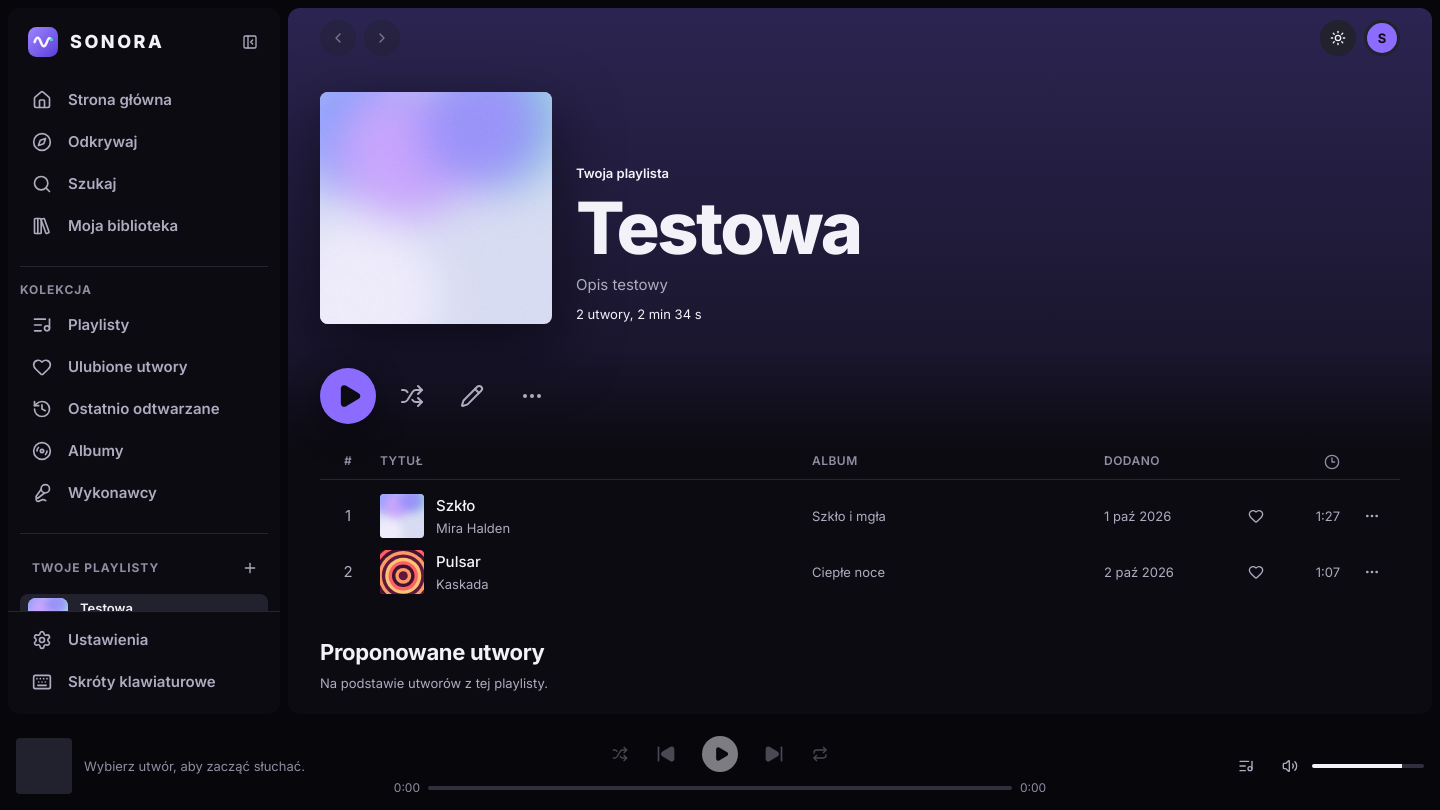
it: playlisty › usuwa playlistę dopiero po potwierdzeniu
The image size is (1440, 810).
Click the button named "Więcej opcji: Testowa".
click(532, 396)  # box [508, 372, 556, 420]
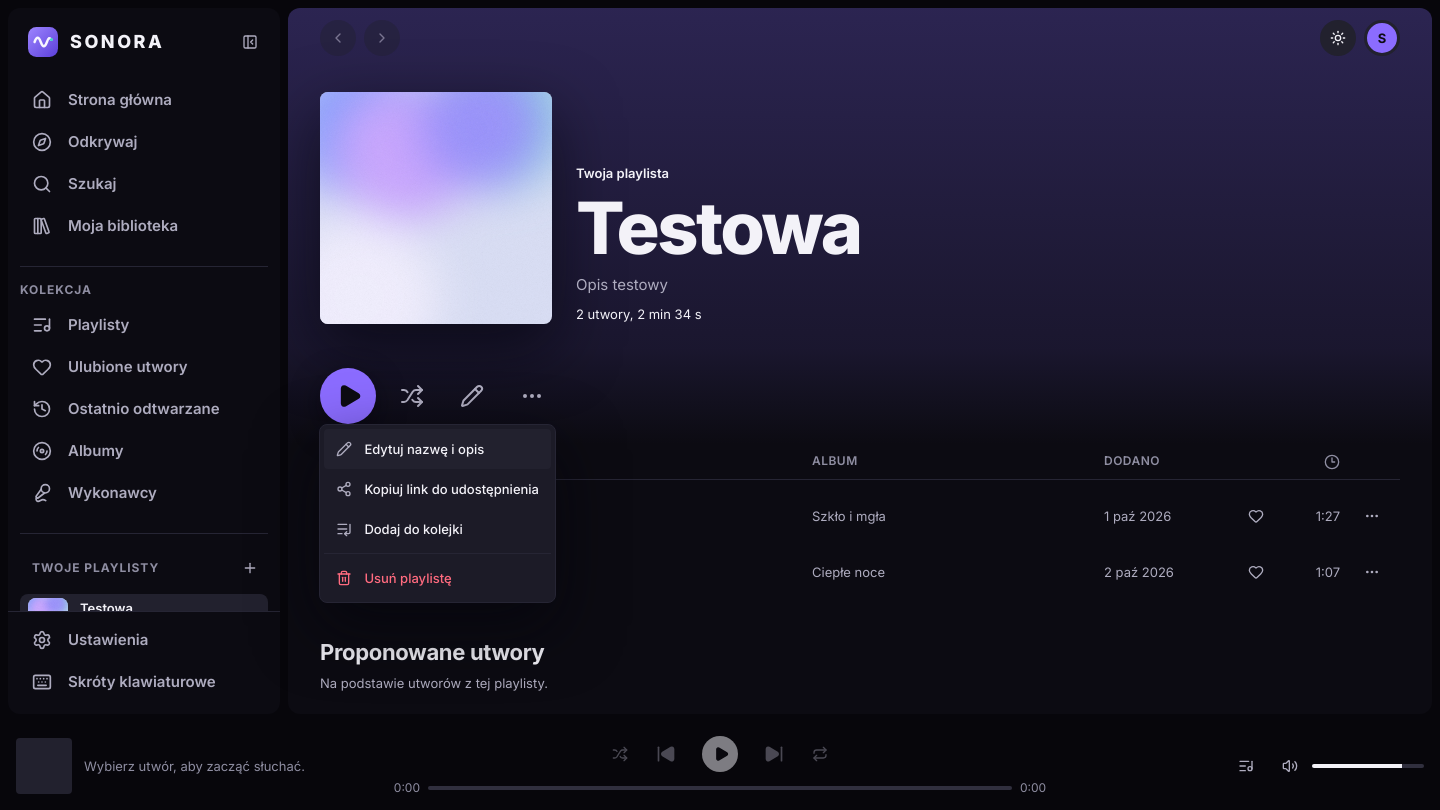
Click the menu item "Usuń playlistę".
click(438, 578)  # box [324, 558, 551, 598]
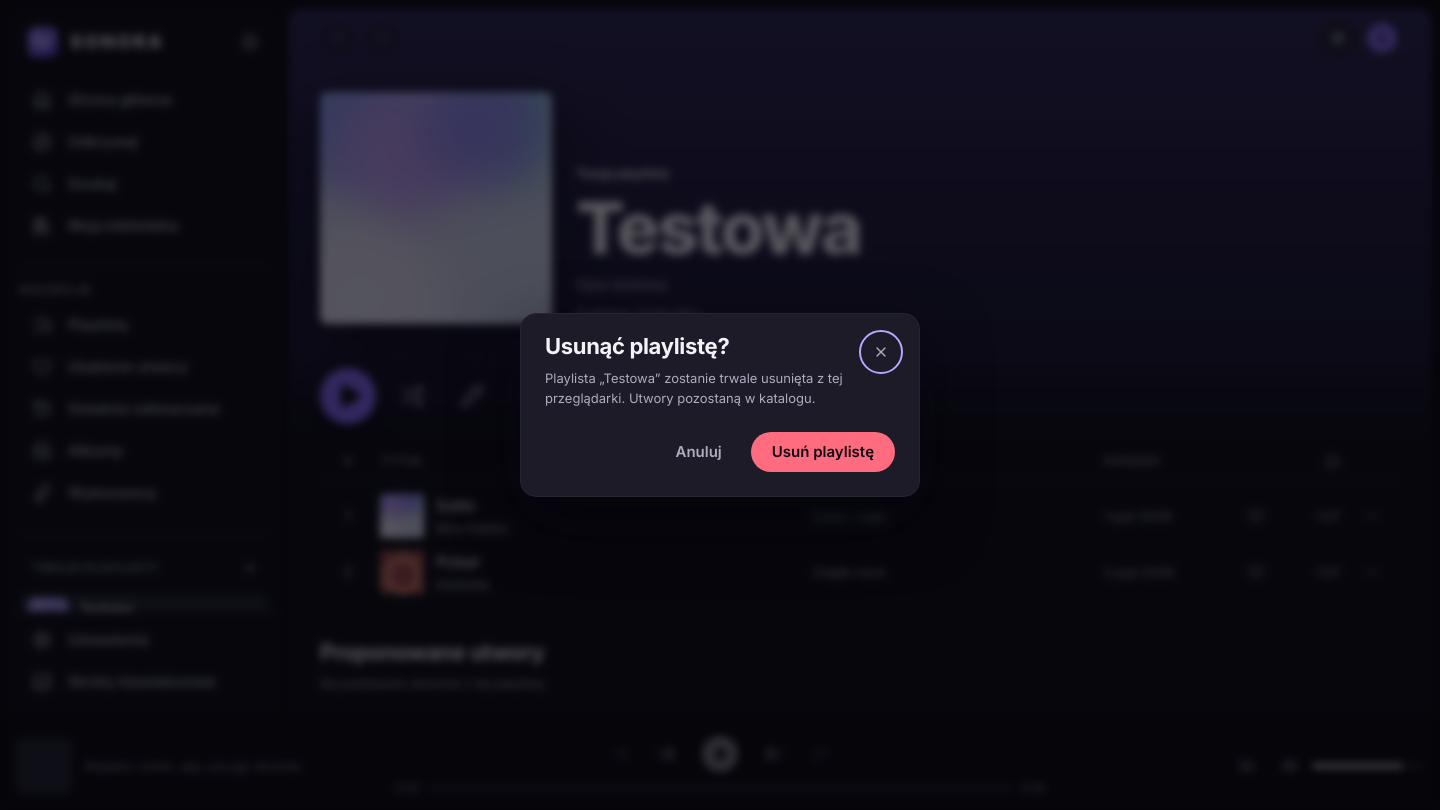
Click the button "Anuluj".
click(699, 452)  # box [654, 432, 743, 472]
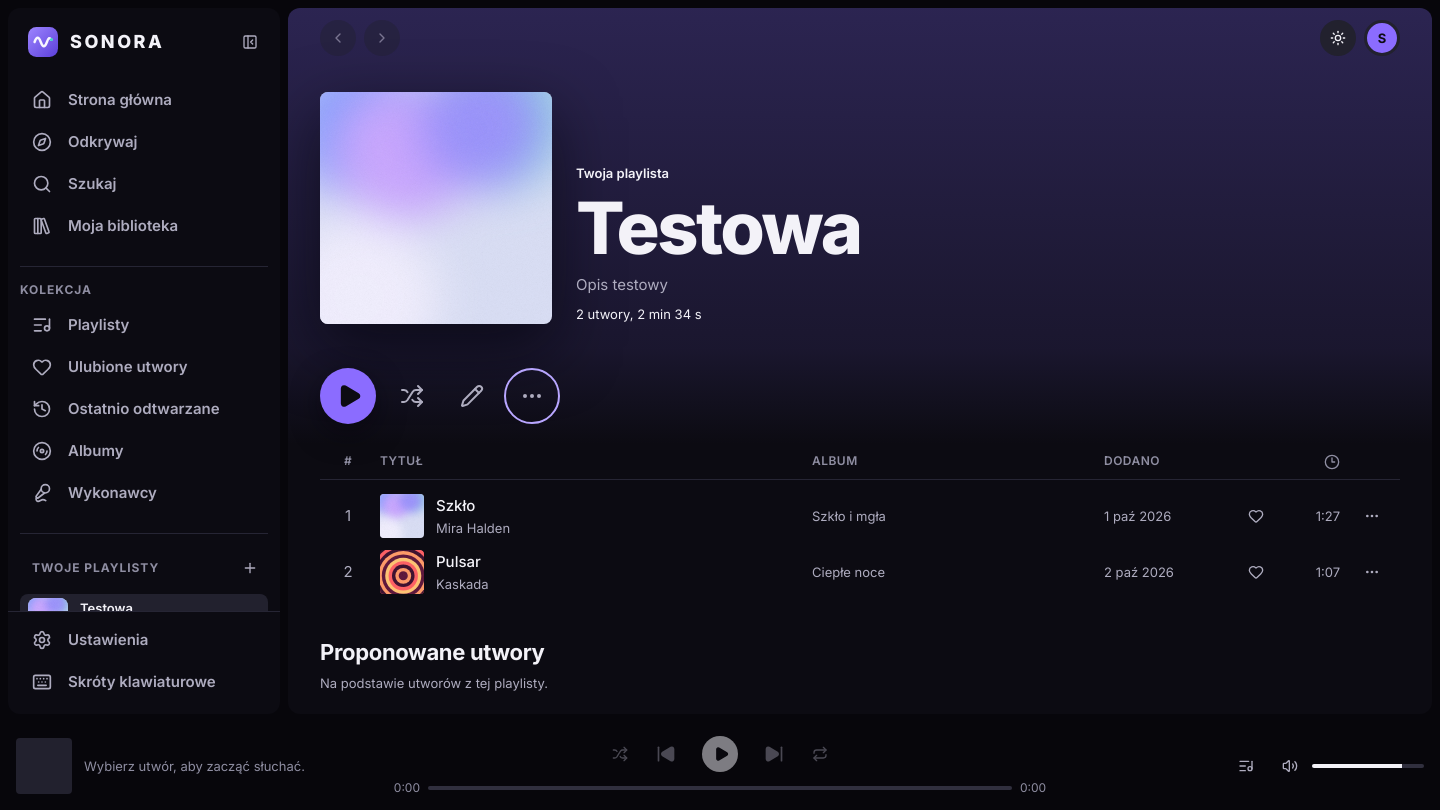
Expected: the heading "Testowa" is shown, [576, 191, 861, 265]
Click the button named "Więcej opcji: Testowa".
click(532, 396)  # box [508, 372, 556, 420]
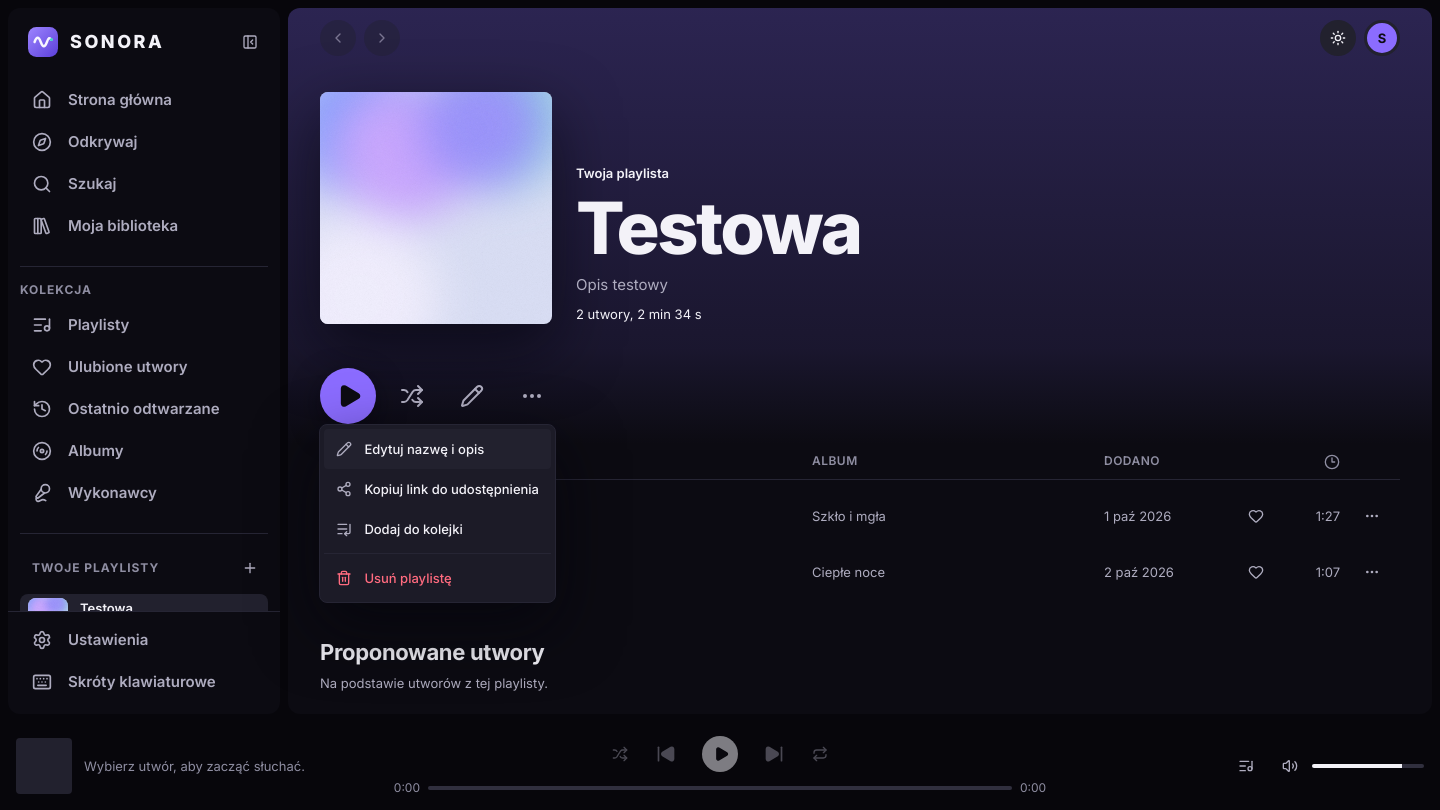
Click the menu item "Usuń playlistę".
click(438, 578)  # box [324, 558, 551, 598]
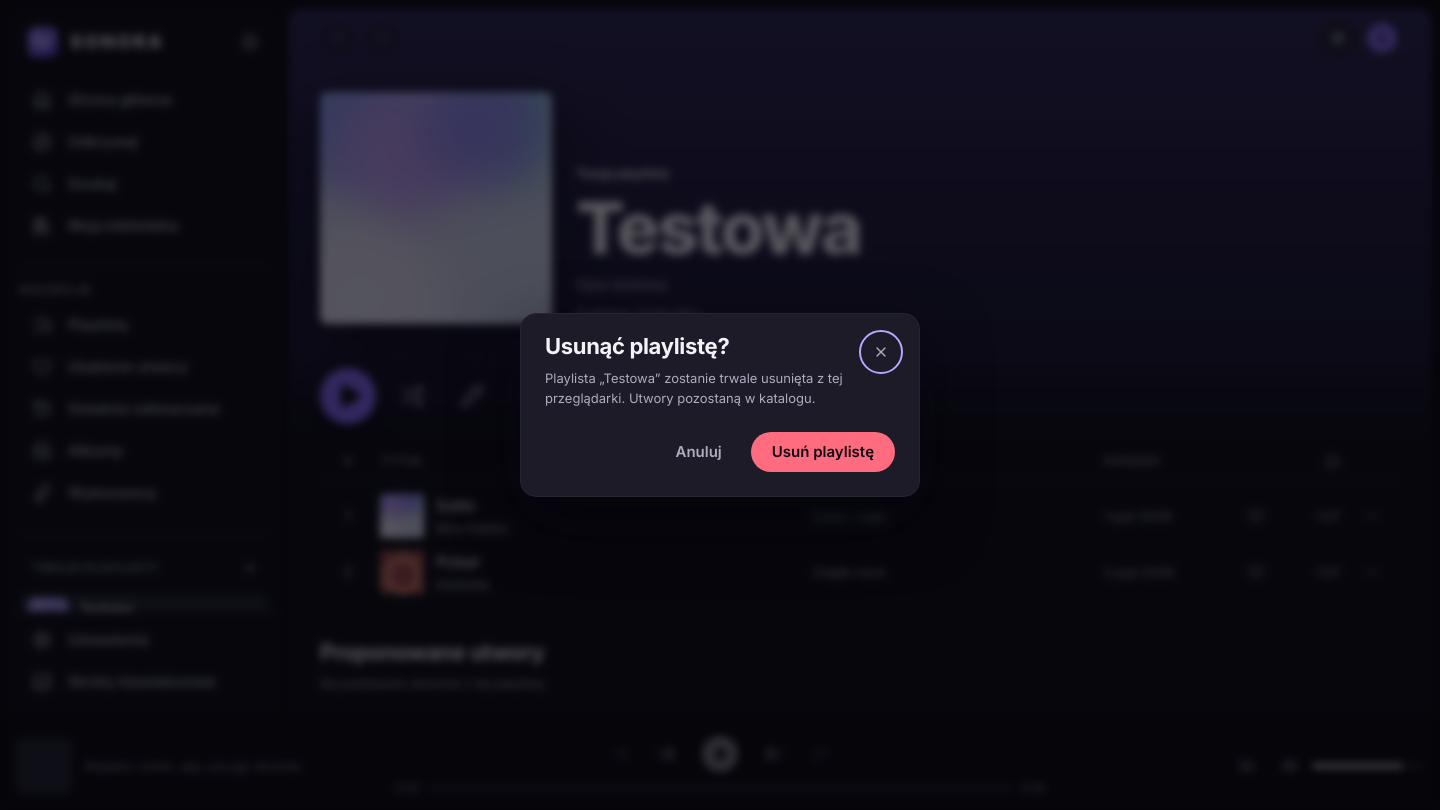
Click the button "Usuń playlistę".
click(823, 452)  # box [751, 432, 895, 472]
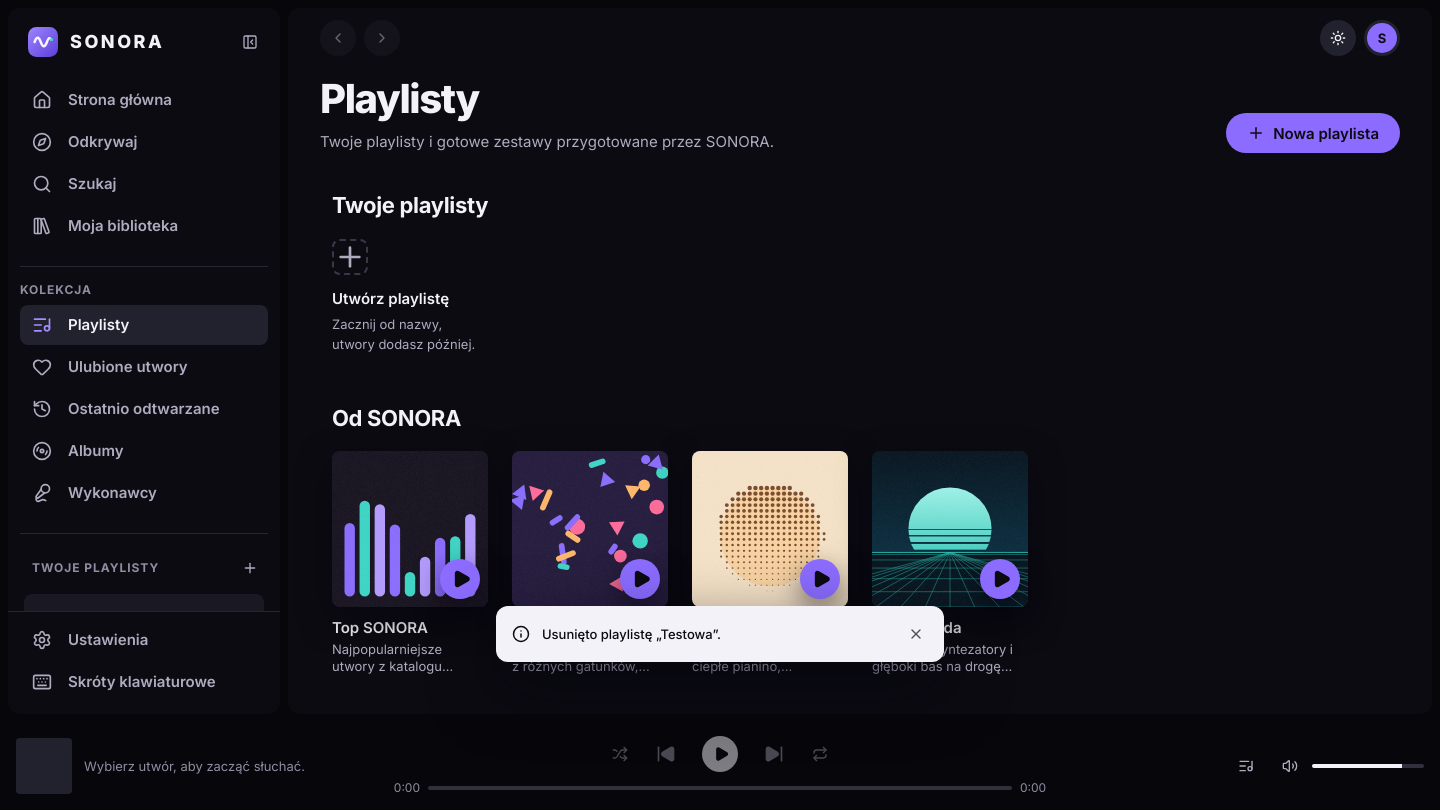
Expected: the heading "Playlisty" is shown, [320, 74, 479, 123]
